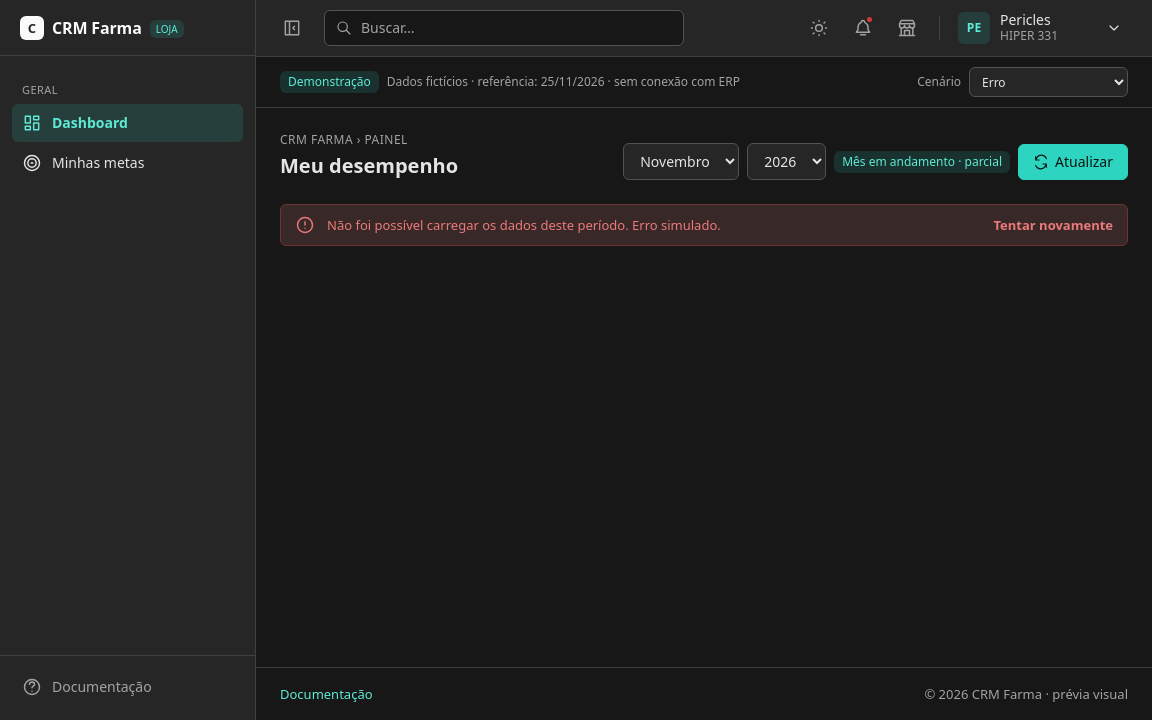
it: simulated failure can retry locally and does not render misleading zero KPIs
Later steps or results of the test are not shown.
Expected: the heading "Meu desempenho" is shown, left=280, top=152, right=458, bottom=180
Expected: the message shows "Erro simulado", left=327, top=216, right=721, bottom=234
Step 1. Click the button "Tentar novamente" → (1053, 225), box left=994, top=215, right=1113, bottom=235
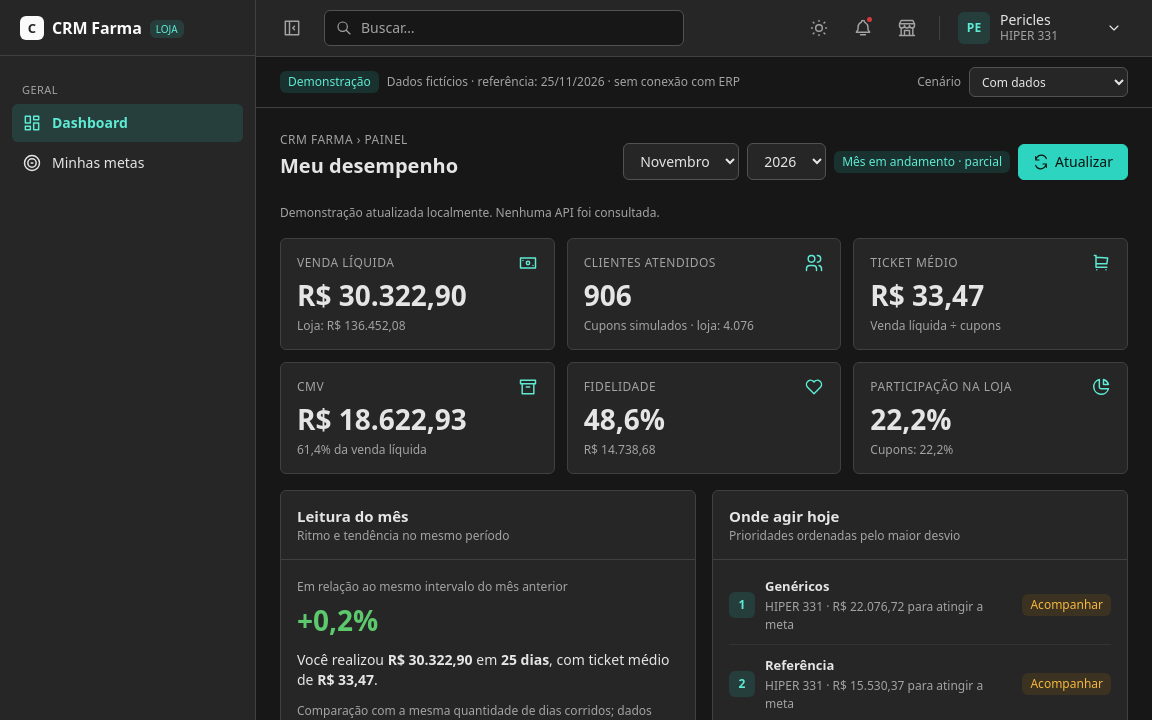
Expected: the heading "Leitura do mês" is shown, left=297, top=506, right=408, bottom=526
